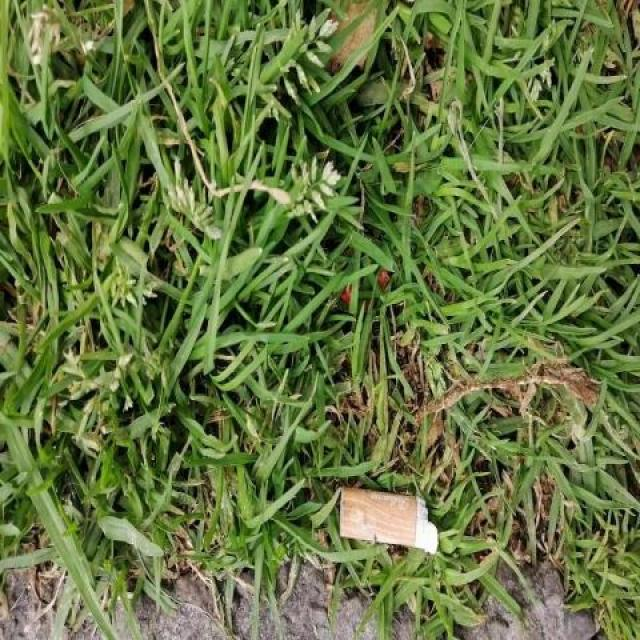non-organic waste: (336, 481, 441, 556)
